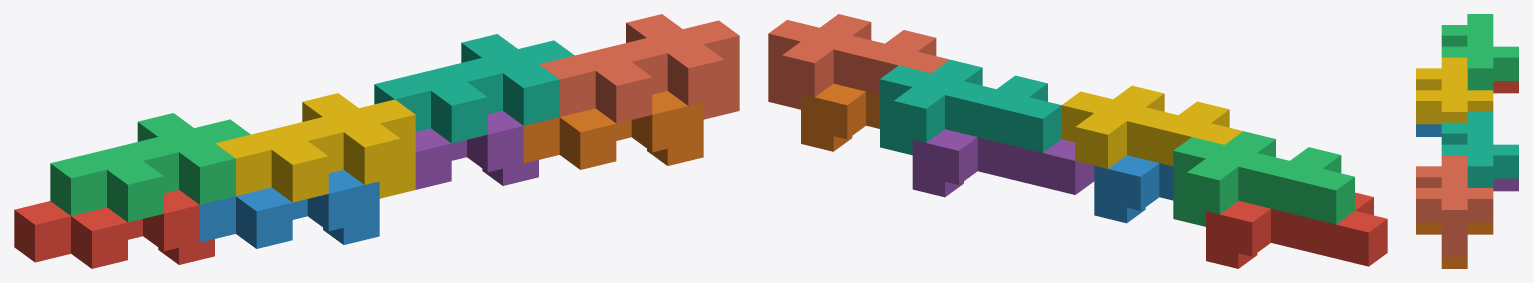
The model's file is tiling.obj.
3 views of the same model, side by side, from view 1: azimuth 30°, elevation 25°; view 2: azimuth 150°, elevation 25°; view 3: azimuth 270°, elevation 25° (orthographic). The views are drawn at different scales.
Parts seen in each view (by area): view 1: copy_1_domain_8, copy_1_domain_4, copy_1_domain_3, copy_1_domain_7, copy_1_domain_1, copy_1_domain_6, copy_1_domain_2, copy_1_domain_5; view 2: copy_1_domain_3, copy_1_domain_7, copy_1_domain_8, copy_1_domain_4, copy_1_domain_1, copy_1_domain_5, copy_1_domain_2, copy_1_domain_6; view 3: copy_1_domain_8, copy_1_domain_3, copy_1_domain_7, copy_1_domain_4, copy_1_domain_6, copy_1_domain_5, copy_1_domain_1, copy_1_domain_2.
Part boxes in pixels (bbox=[...]): copy_1_domain_8: bbox=[539, 14, 739, 123]; copy_1_domain_4: bbox=[215, 93, 415, 202]; copy_1_domain_3: bbox=[50, 113, 250, 222]; copy_1_domain_7: bbox=[374, 34, 574, 143]; copy_1_domain_1: bbox=[14, 190, 214, 268]; copy_1_domain_6: bbox=[523, 91, 703, 169]; copy_1_domain_2: bbox=[200, 170, 379, 248]; copy_1_domain_5: bbox=[415, 111, 538, 189]; copy_1_domain_3: bbox=[1173, 131, 1354, 226]; copy_1_domain_7: bbox=[880, 59, 1061, 155]; copy_1_domain_8: bbox=[768, 14, 949, 109]; copy_1_domain_4: bbox=[1061, 85, 1242, 168]; copy_1_domain_1: bbox=[1206, 192, 1387, 268]; copy_1_domain_5: bbox=[912, 129, 1094, 197]; copy_1_domain_2: bbox=[1094, 155, 1173, 223]; copy_1_domain_6: bbox=[801, 83, 879, 151]; copy_1_domain_8: bbox=[1416, 155, 1493, 256]; copy_1_domain_3: bbox=[1441, 14, 1518, 90]; copy_1_domain_7: bbox=[1441, 112, 1518, 187]; copy_1_domain_4: bbox=[1416, 57, 1493, 124]; copy_1_domain_6: bbox=[1416, 222, 1493, 268]; copy_1_domain_5: bbox=[1493, 178, 1518, 191]; copy_1_domain_1: bbox=[1493, 81, 1518, 93]; copy_1_domain_2: bbox=[1416, 124, 1441, 136].
Bounding box in the file's own units: 19 × 3 × 4.
